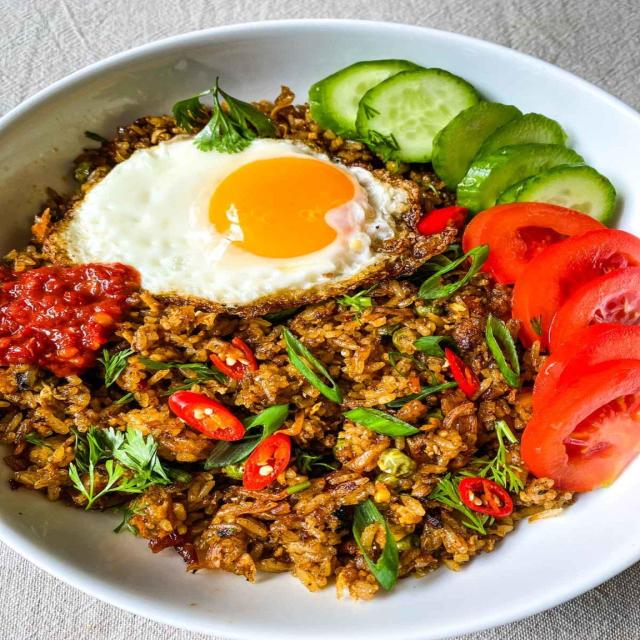Nasi Goreng: (13, 109, 590, 608)
